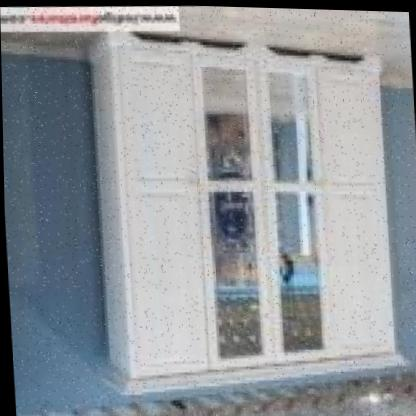Closet: (78, 16, 410, 410)
